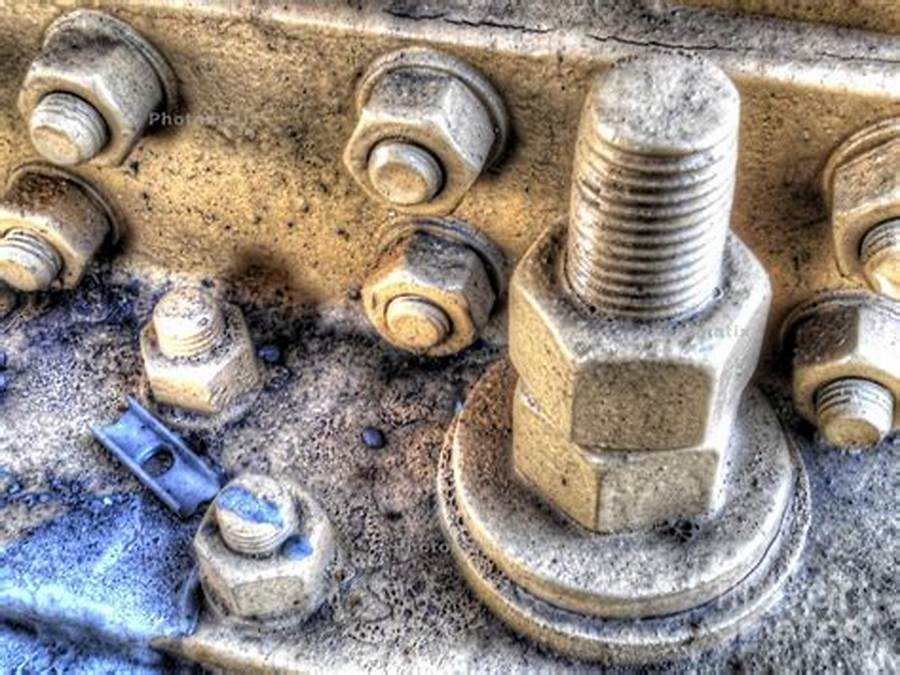bolt_b: (506, 212, 772, 453), (337, 73, 497, 222), (191, 474, 336, 619), (18, 39, 165, 168), (363, 237, 495, 359), (791, 303, 897, 453), (135, 295, 261, 414), (4, 168, 118, 294)
